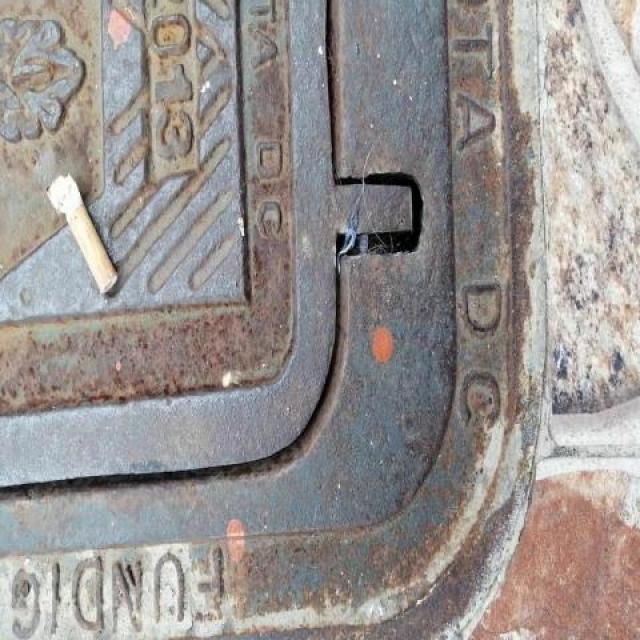non-organic waste: (41, 171, 124, 300)
